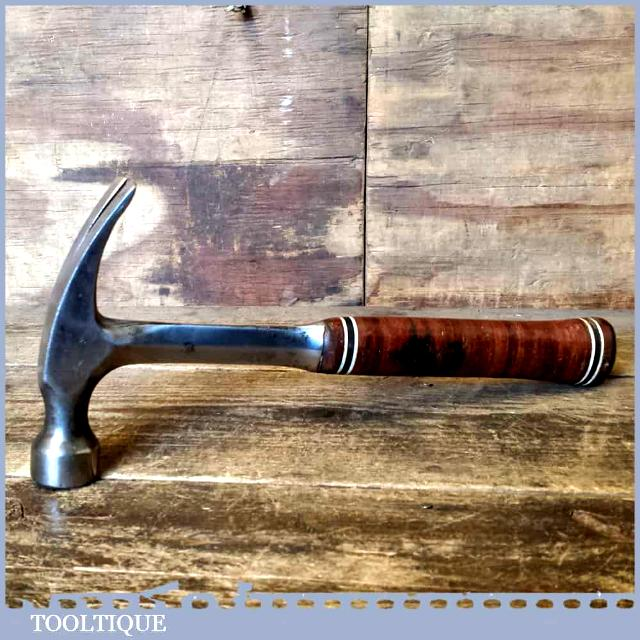hammer: (22, 165, 624, 499)
